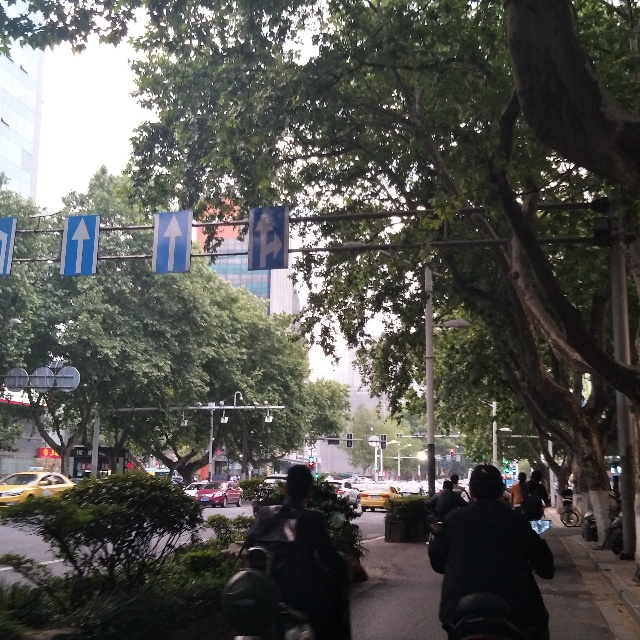straight: (151, 211, 190, 273), (61, 215, 98, 276)
